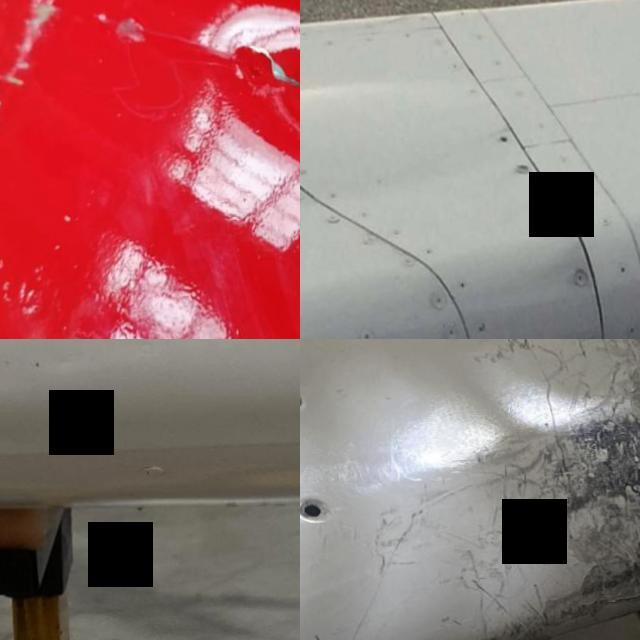Crack: (129, 12, 300, 152), (552, 222, 576, 236)
Missing_Fastener: (300, 492, 337, 525), (300, 381, 313, 420)
